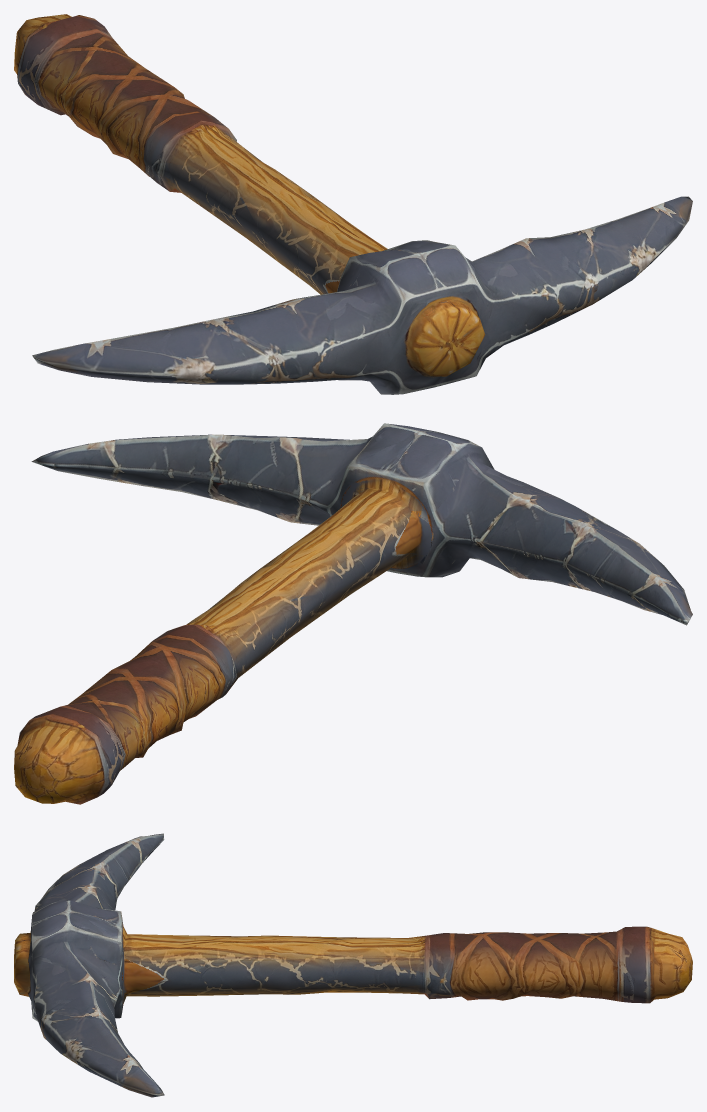
The model's file is Pickaxe.glb.
3 views of the same model, one above another, from view 1: azimuth 30°, elevation 25°; view 2: azimuth 150°, elevation 25°; view 3: azimuth 270°, elevation 25° (orthographic). The views are drawn at different scales.
Parts seen in each view (by area): view 1: texture_mapping; view 2: texture_mapping; view 3: texture_mapping.
Boxes of the visible parts, x1,y1,x2,y2 form: texture_mapping: [14, 14, 692, 394]; texture_mapping: [14, 423, 692, 804]; texture_mapping: [14, 833, 692, 1097].
Size of the model in its own units: 0.9111 by 0.1775 by 1.
Materials: 1 (1 with a texture image).
